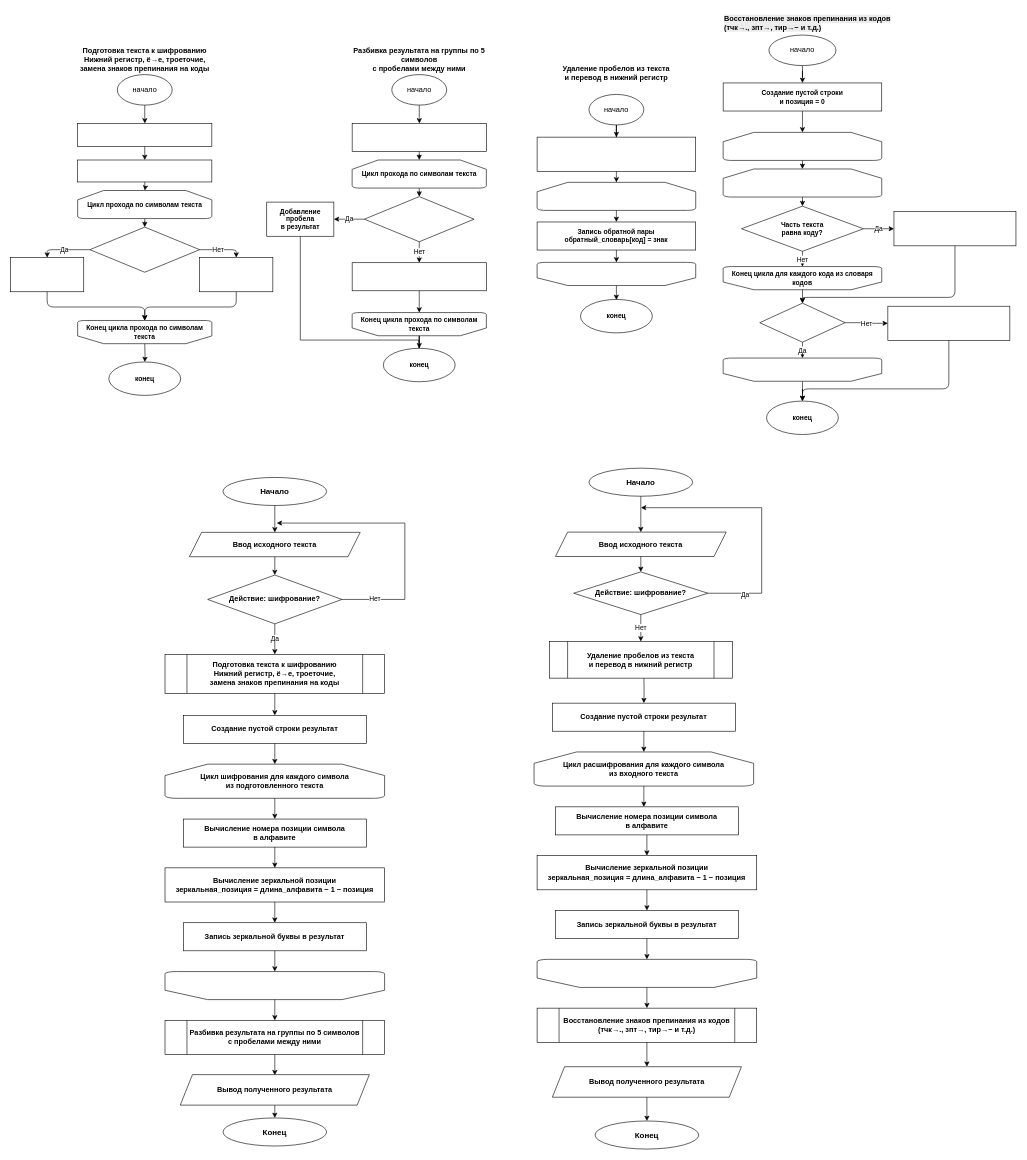
Some shapes in this 1027 by 1160 pixel diagram are drawn without their labels. The centre of each missing label's shape, as x and y in pixels:
"Добавление символа в результат и увеличение счётчика на 1" goes at point 419,276.
"Замена ё → е, Замена троеточия на тчктчктчк" goes at point 144,170.
"Запись знака в результат и сдвиг позиции на длину кода" goes at point 954,228.
"Запись кода в результат" goes at point 47,274.
"Запись символа в результат" goes at point 236,274.
"Запись символа в результат и сдвиг позиции на 1" goes at point 948,323.
"Код найден?" goes at point 802,322.
"Конец цикла пока позиция < длина текста" goes at point 802,369.
"Конец цикла прохода по словарю для каждого знака" goes at point 616,274.
"Конец цикла расшифрования для каждого символа" goes at point 646,973.
"Конец цикла шифрования для каждого символа" goes at point 274,985.
"Перевод текста в нижний регистр" goes at point 144,135.
"Построение словаря знак препинания → код (. → тчк, , → зпт и т.д.)" goes at point 616,154.
"Символ — знак препинания?" goes at point 144,249.
"Создание пустой строки и счётчика = 0" goes at point 419,137.
"Счётчик > 0 и счётчик mod 5 = 0?" goes at point 419,219.
"Цикл для каждого кода из словаря кодов" goes at point 802,182.
"Цикл пока позиция меньше длины текста" goes at point 802,146.
"Цикл прохода по словарю для каждого знака" goes at point 616,196.
